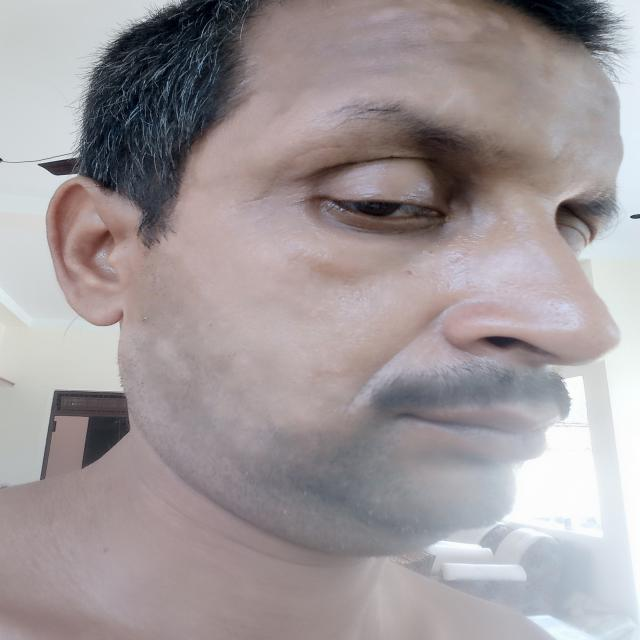Englarged-Pores: (306, 278, 394, 363), (434, 248, 472, 290), (546, 295, 582, 331)
Wrinkles: (335, 307, 447, 415), (364, 13, 466, 24), (327, 64, 406, 76), (414, 37, 491, 49), (426, 89, 456, 118), (223, 194, 276, 208), (284, 245, 310, 267), (252, 208, 283, 225), (546, 142, 569, 164), (524, 189, 560, 203)
